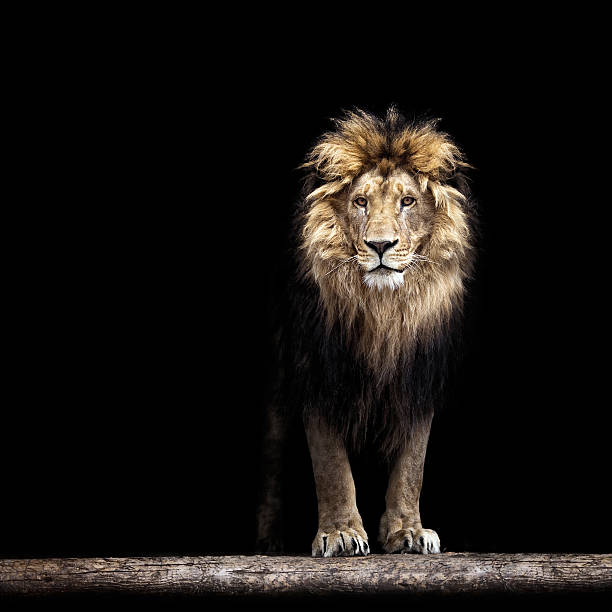lion: (262, 74, 486, 474)
